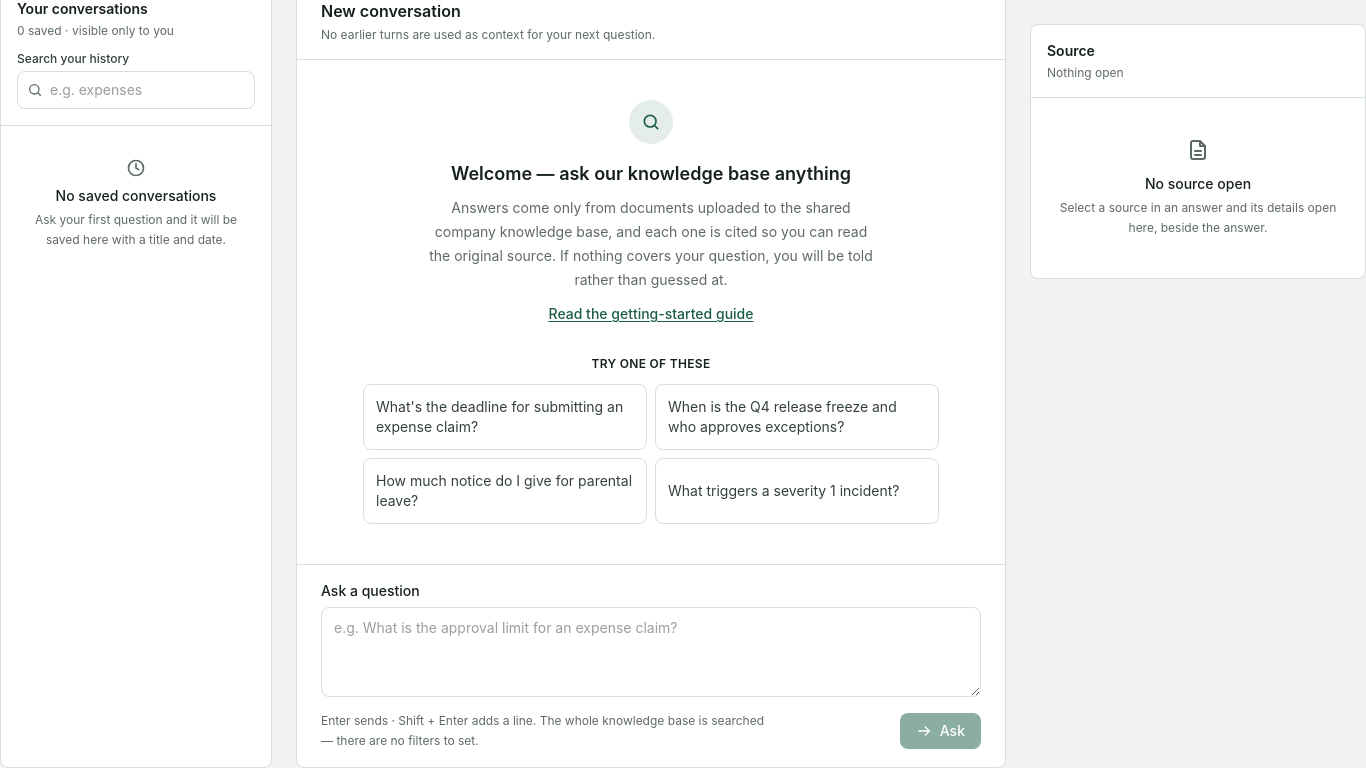
Test: Chat screen › renders the not-covered message with no citations and a link to Documents (AC-013/099/100/102)
The image size is (1366, 768).
(page scrolled)
Type "What is the 2099 target?" into the text box labelled "Ask a question".
click(651, 652); type("What is the 2099 target?")  # box [321,607,981,697]
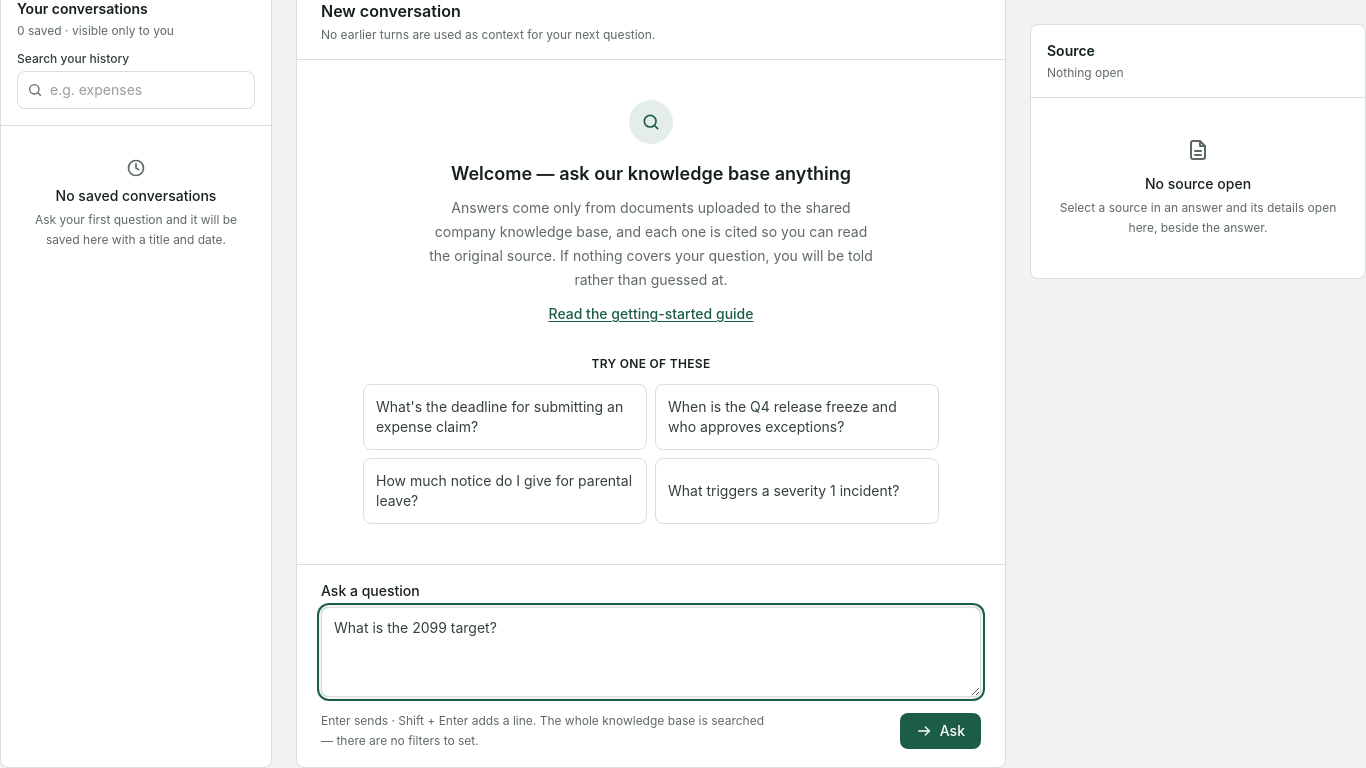
Click the button "Ask".
click(940, 731)  # box [900,713,981,749]
(page scrolled)
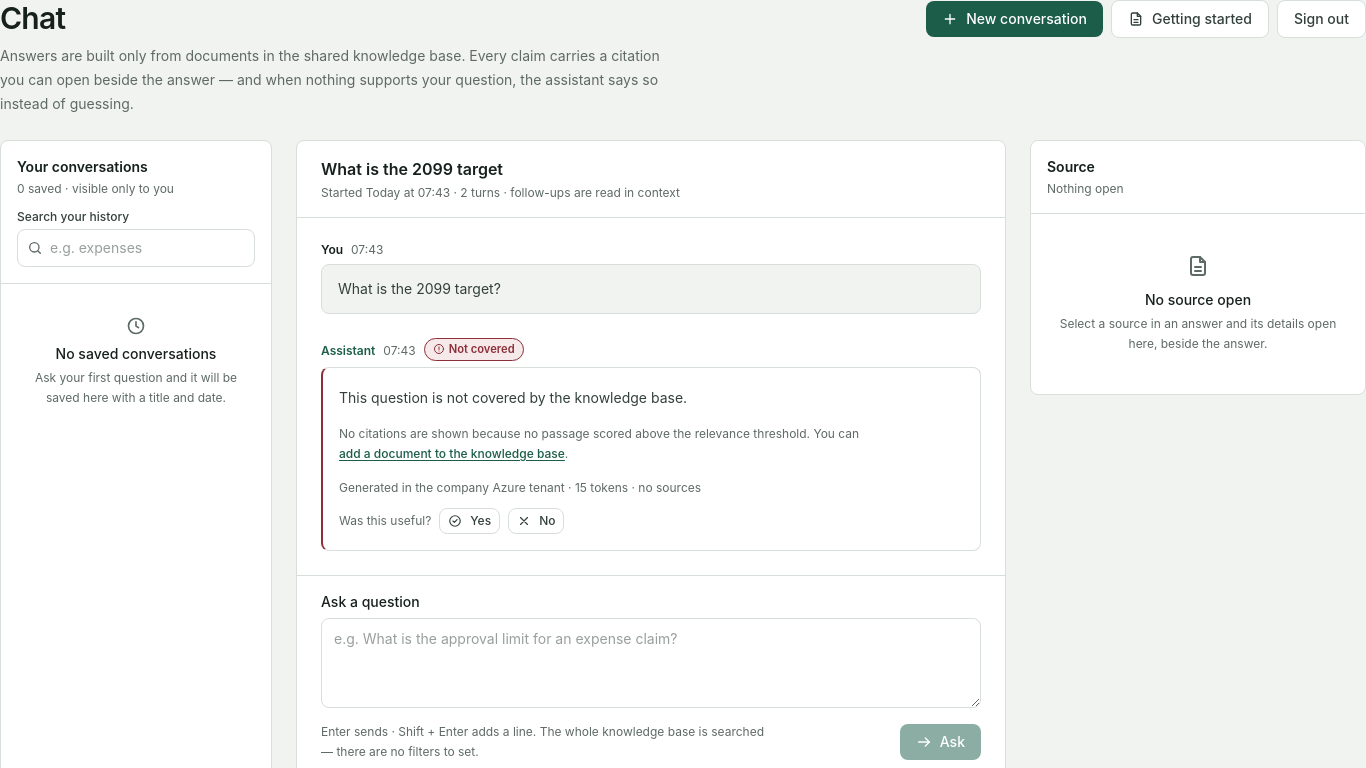
Now the text "Not covered" is shown, box [424,338,524,361]
Now the button "add a document to the knowledge base" is shown, box [339,444,565,464]
